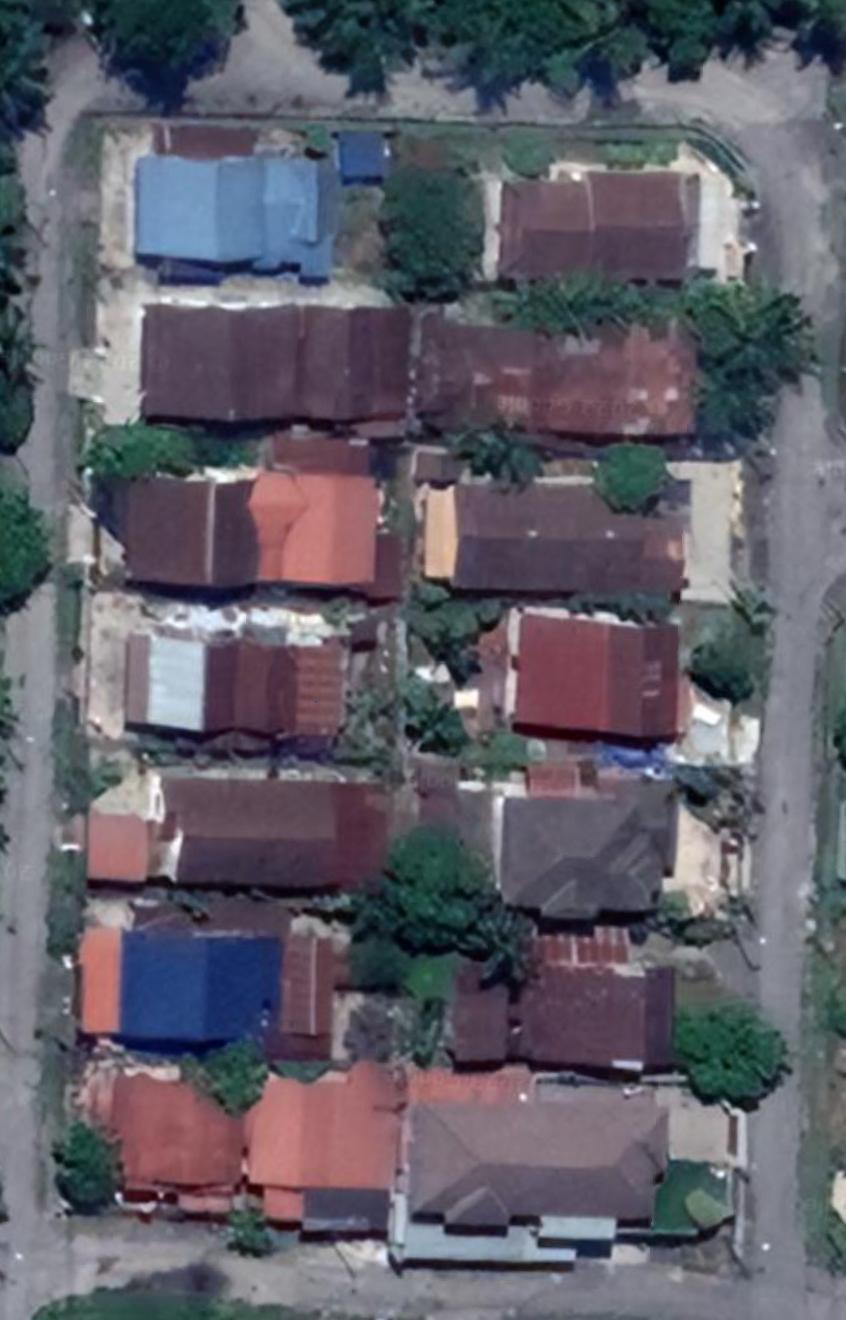building: (396, 1084, 758, 1277), (109, 435, 410, 614), (61, 900, 361, 1069), (121, 118, 396, 295), (414, 300, 711, 454), (72, 768, 400, 904), (125, 293, 418, 439), (481, 757, 690, 941), (418, 475, 700, 611), (111, 625, 364, 762), (442, 945, 688, 1082), (479, 161, 732, 294), (245, 1057, 412, 1251), (499, 601, 692, 753), (81, 1066, 246, 1236)
